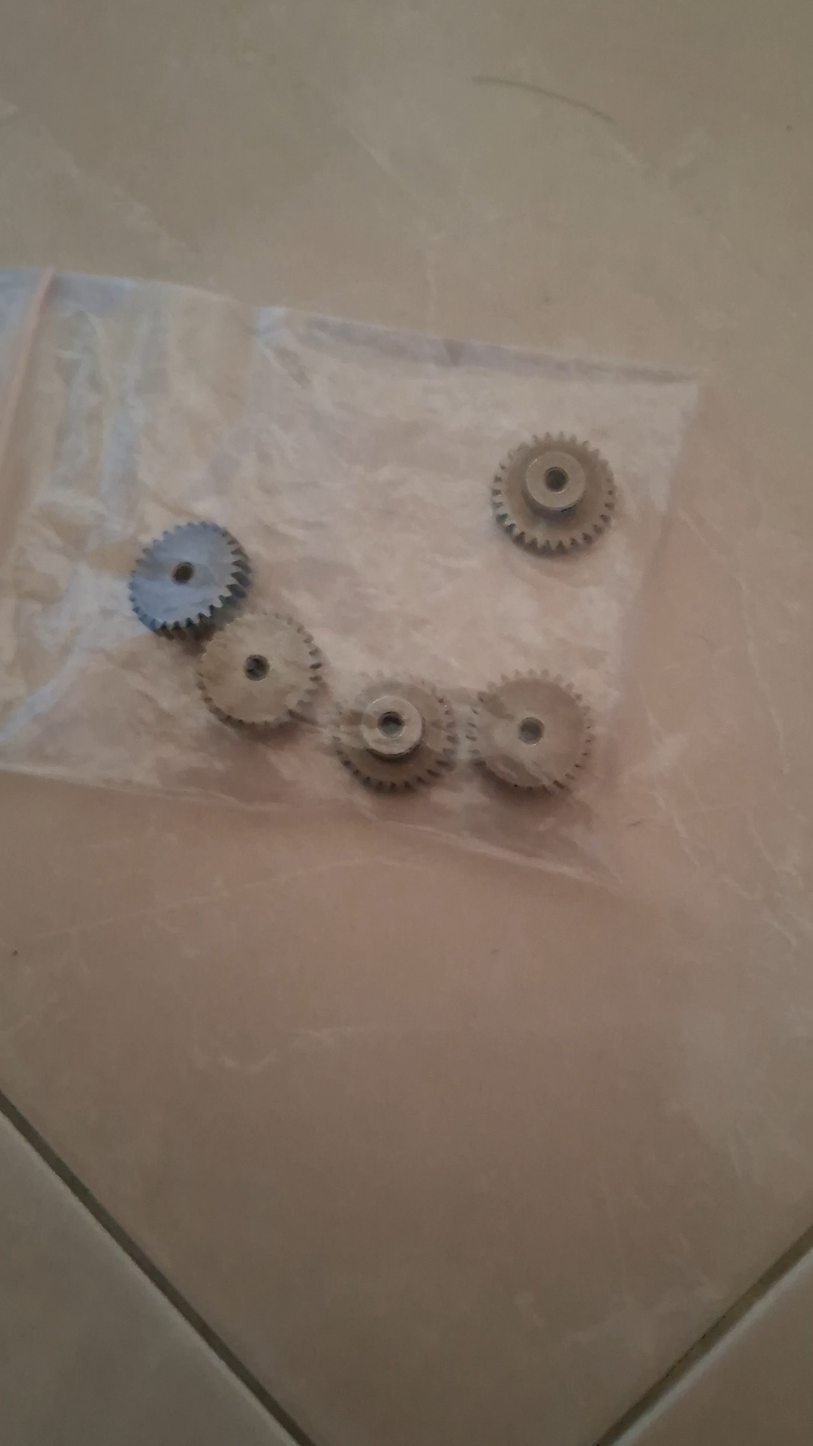spur gear: (492, 434, 615, 553), (470, 673, 591, 792), (198, 614, 321, 728), (333, 679, 457, 791), (130, 523, 250, 636)
